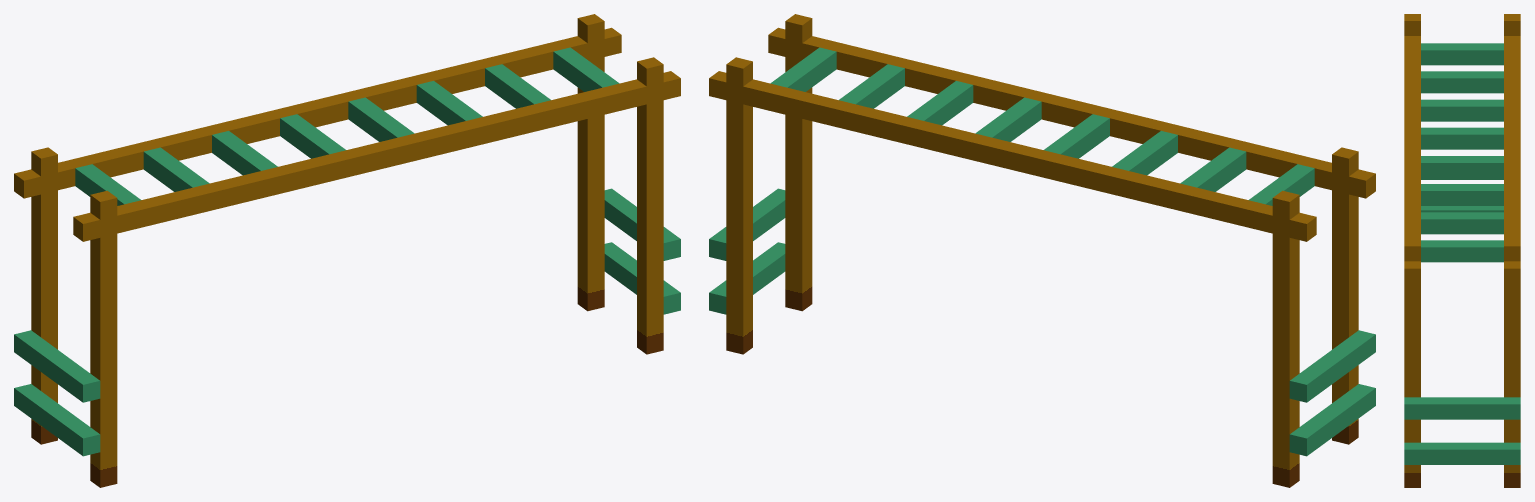
The model's file is obj_playgrnd1.fbx.
3 renders of one model, left to right at view 1: azimuth 30°, elevation 25°; view 2: azimuth 150°, elevation 25°; view 3: azimuth 270°, elevation 25°, orthographic. The views are drawn at different scales.
Visible parts, largest first — view 1: obj_playgrnd1; view 2: obj_playgrnd1; view 3: obj_playgrnd1.
Boxes of the visible parts, left/top/right/bottom form: obj_playgrnd1: left=14, top=14, right=680, bottom=487; obj_playgrnd1: left=709, top=14, right=1375, bottom=487; obj_playgrnd1: left=1404, top=14, right=1520, bottom=487.
Size of the model in its own units: 3.5 by 0.7 by 1.6.
Materials: 1 (1 with a texture image).
